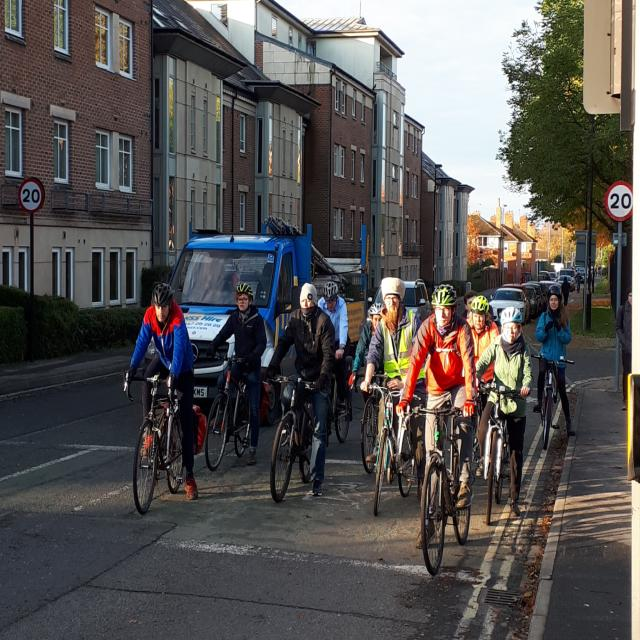bicycle: (396, 285, 475, 575), (125, 283, 198, 513), (268, 282, 335, 502), (361, 278, 420, 515), (200, 283, 266, 470), (476, 307, 532, 522), (534, 283, 575, 448)
truck: (170, 222, 364, 402)
